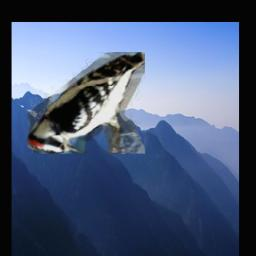Woodpecker: (28, 53, 145, 155)
